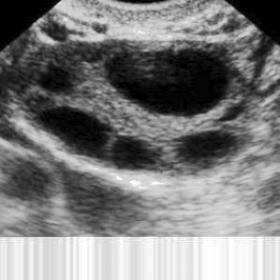PCOS: (112, 48, 221, 105), (42, 106, 111, 149), (114, 139, 162, 170), (181, 132, 225, 162), (90, 15, 114, 42), (46, 16, 68, 42), (47, 71, 67, 95), (218, 111, 244, 120)
